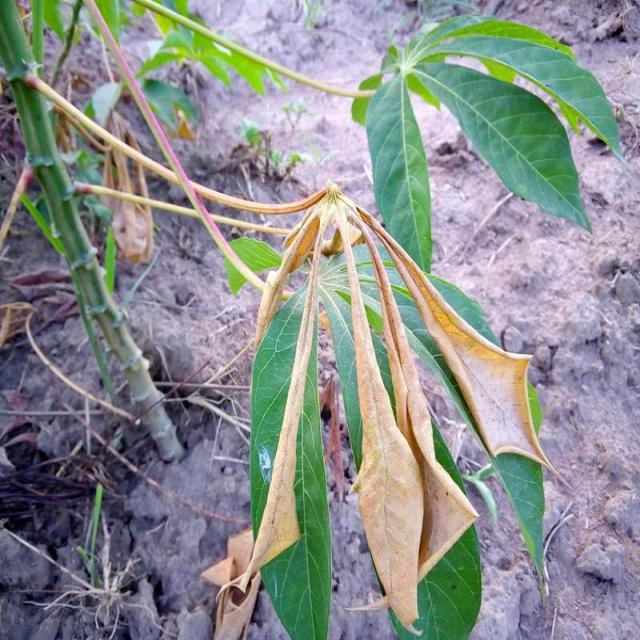cassava leaf: (240, 188, 559, 638), (247, 274, 332, 638)
